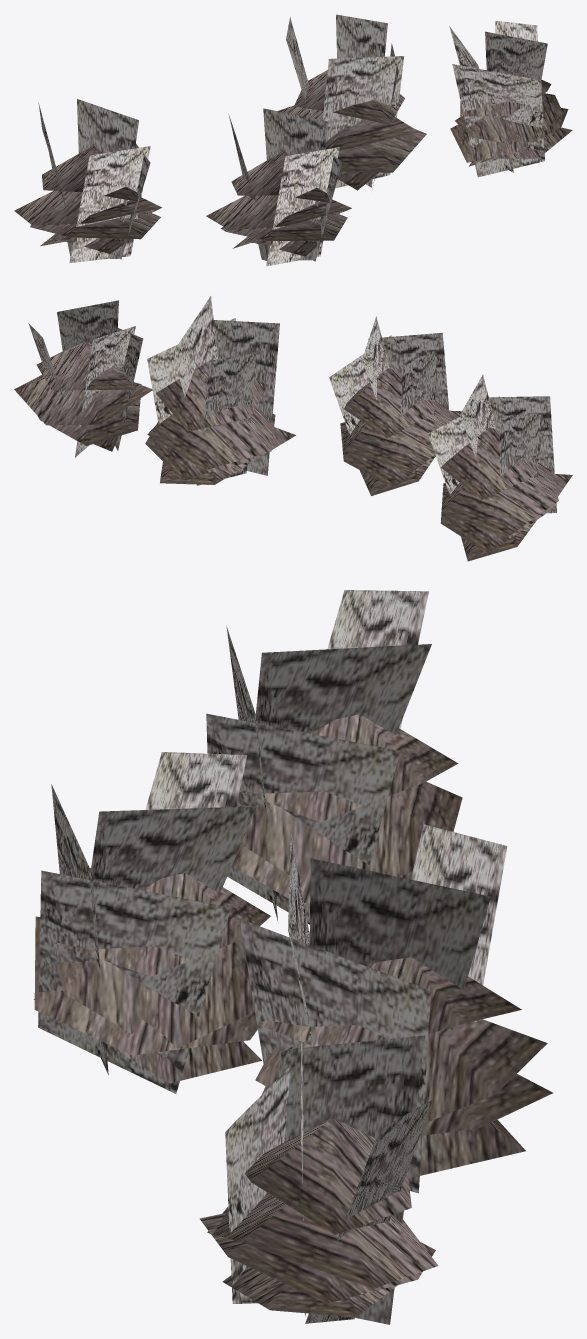
Rendered from Grass04.obj.
3 renders of one model, top to bottom at view 1: azimuth 30°, elevation 25°; view 2: azimuth 150°, elevation 25°; view 3: azimuth 270°, elevation 25°, orthographic. The views are drawn at different scales.
Visible parts, largest first — view 1: Mesh_1, Mesh_0; view 2: Mesh_0, Mesh_1; view 3: Mesh_1, Mesh_0.
Part boxes in pixels (<box>): Mesh_1: <box>38,14,547,266</box>; Mesh_0: <box>14,70,572,256</box>; Mesh_0: <box>14,341,572,561</box>; Mesh_1: <box>28,296,556,513</box>; Mesh_1: <box>38,590,507,1324</box>; Mesh_0: <box>33,714,552,1317</box>.
Size of the model in its own units: 3.9 by 1.24 by 1.65.
Materials: 2 (2 with a texture image).
